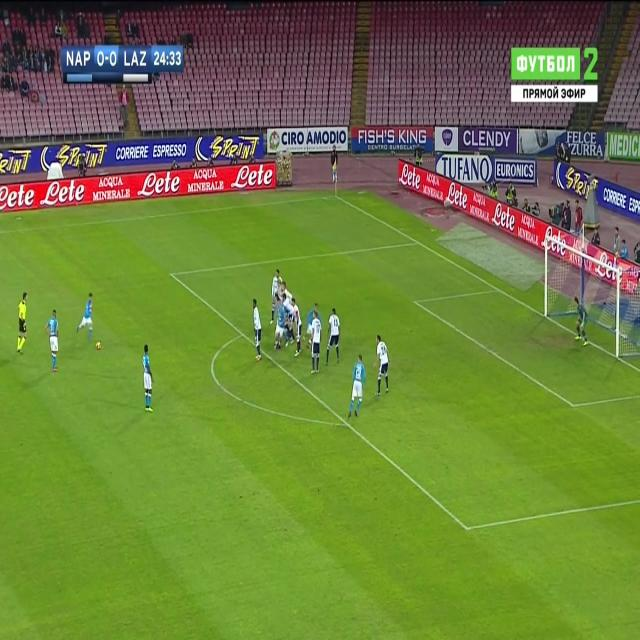Ball: (95, 336, 103, 354)
Goalkeeper: (572, 296, 596, 352)
Player: (345, 352, 367, 419), (324, 303, 344, 373), (42, 307, 62, 375), (372, 332, 392, 398), (140, 339, 155, 416), (75, 289, 96, 340), (308, 307, 322, 381), (273, 294, 287, 353), (291, 296, 303, 363), (252, 298, 263, 368), (269, 265, 280, 327)
Referee: (14, 287, 32, 355)
